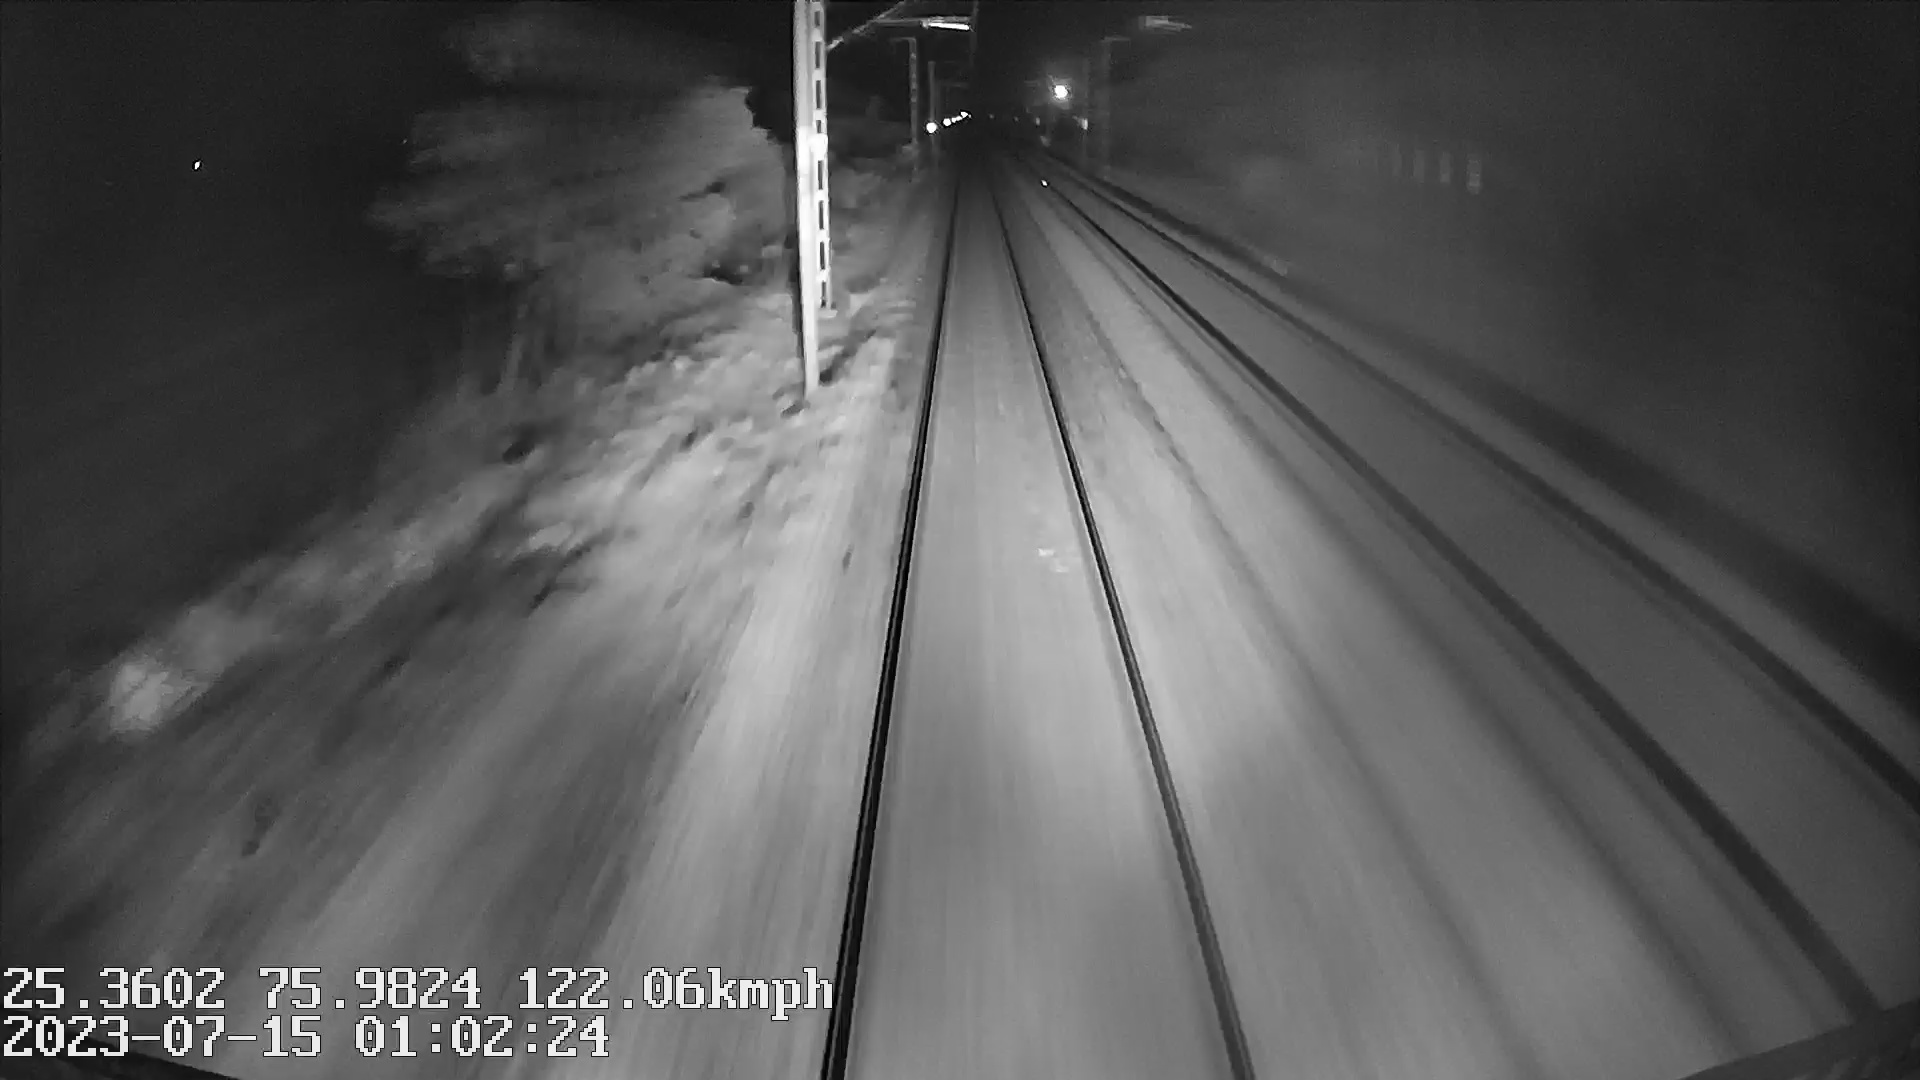track1: (836, 186, 1244, 1065)
track2: (1046, 177, 1905, 972)
